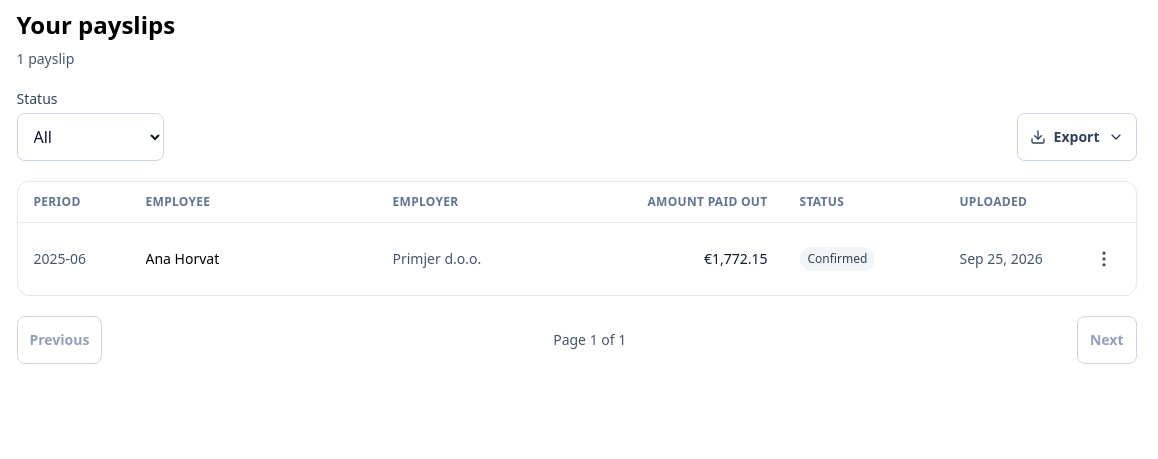
Test: HistoryPage › reports an export failure in translated copy and logs the detail
Click the button "Export".
click(1077, 137)  # box [1017,113,1136,161]
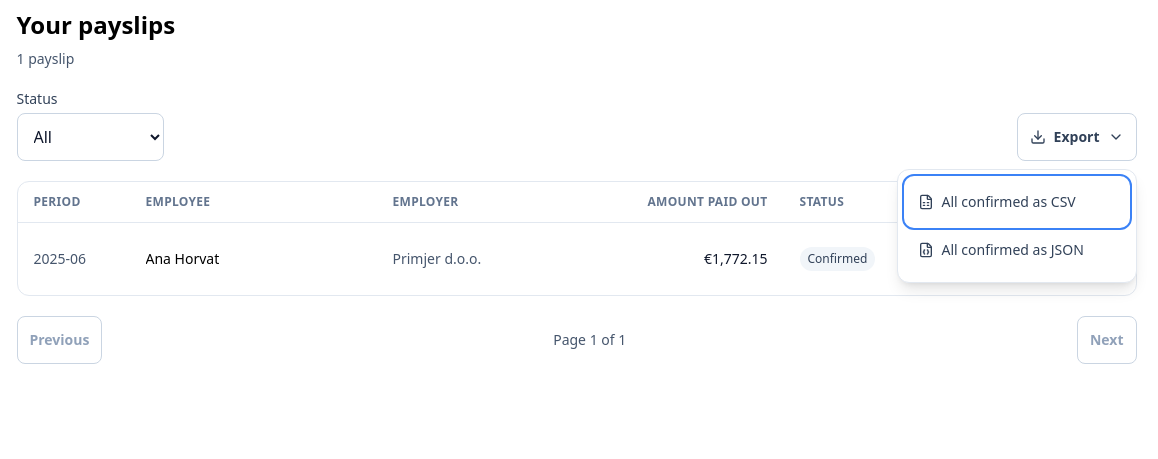
Click the button "All confirmed as CSV".
click(1016, 202)  # box [906,178,1128,226]
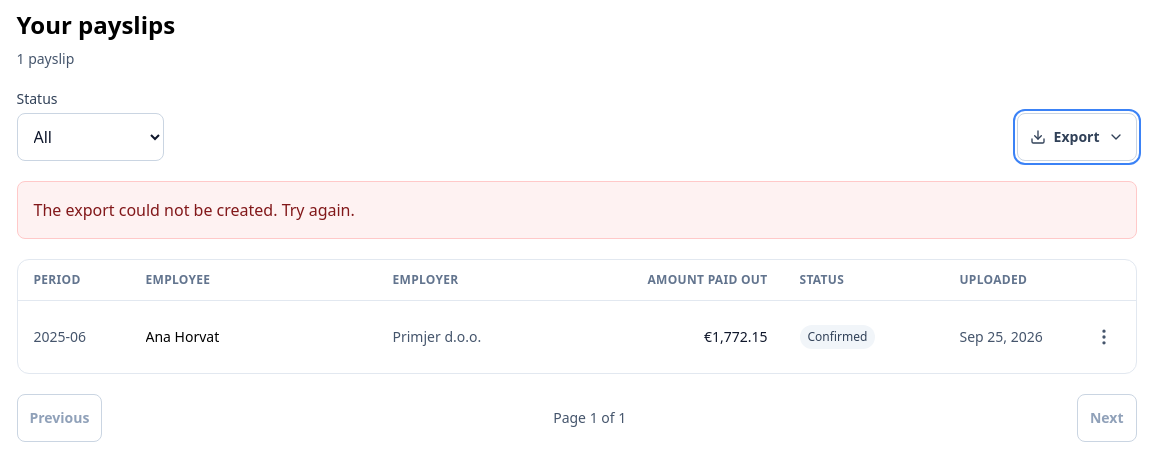
Expected: the button "Export" is enabled, [1017,113,1136,161]
Now the text "The export could not be created. Try again." is shown, box [34,199,355,221]
